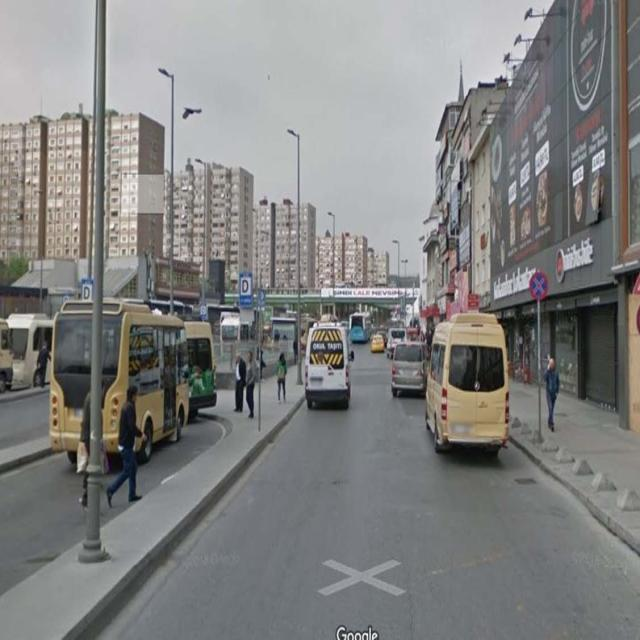durak: (240, 273, 253, 307), (81, 278, 93, 307)
